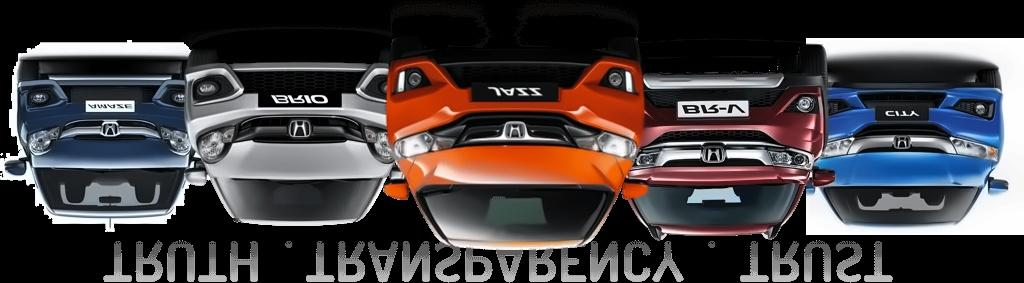Car hood: (406, 142, 625, 188), (818, 151, 998, 192), (211, 139, 390, 180), (32, 134, 198, 171), (633, 161, 806, 186)
Front bumper: (380, 55, 650, 137), (181, 59, 401, 138), (12, 49, 196, 130), (637, 66, 826, 142), (823, 80, 1003, 147)
Headlight - -L-: (395, 115, 465, 163), (193, 125, 236, 167), (22, 126, 65, 156), (820, 132, 862, 160), (631, 146, 665, 171)
Headlight - -R-: (569, 128, 640, 157), (763, 144, 812, 175), (946, 136, 1001, 163), (364, 126, 397, 167), (160, 128, 198, 159)
Side mirror - -L-: (380, 182, 411, 205), (185, 163, 209, 192), (2, 153, 28, 179)
Side mirror - -R-: (977, 171, 1011, 201), (614, 177, 648, 205), (809, 162, 837, 189)
